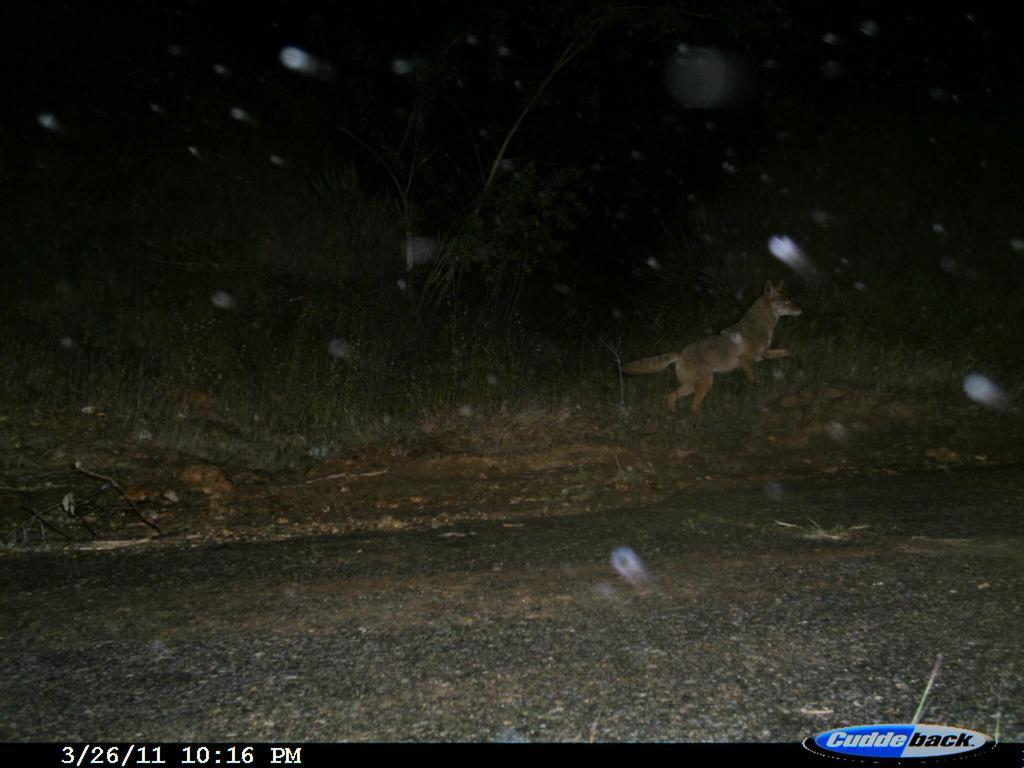coyote: (616, 273, 811, 420)
